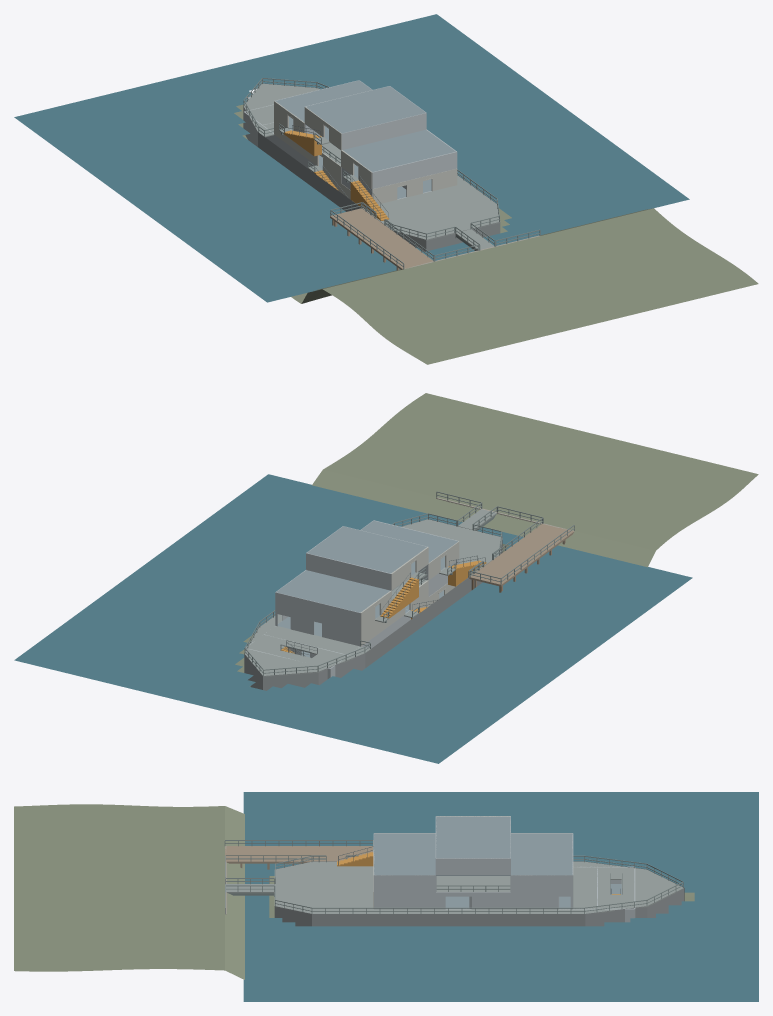
The model's file is vessel.glb.
3 renders of one model, top to bottom at view 1: azimuth 30°, elevation 25°; view 2: azimuth 150°, elevation 25°; view 3: azimuth 270°, elevation 25°, orthographic.
Visible parts, largest first — view 1: WATER PLACEHOLDER / layers and transparency pending, Authored quay terrain, Saint Elara joined aft starboard and fore weather deck regio, Ceiling cap bridge, Pointed retired vessel hull / empty interior, Ceiling cap crew, Saint Elara port work pier region0, Wall crew S, Wall bridge S, Ceiling cap net; view 2: WATER PLACEHOLDER / layers and transparency pending, Authored quay terrain, Saint Elara joined aft starboard and fore weather deck regio, Pointed retired vessel hull / empty interior, Ceiling cap bridge, Ceiling cap net, Saint Elara port work pier region0, Wall bridge N, Wall net N, Ceiling cap crew, Flat route shell Wall processing N; view 3: WATER PLACEHOLDER / layers and transparency pending, Authored quay terrain, Saint Elara joined aft starboard and fore weather deck regio, Pointed retired vessel hull / empty interior, Ceiling cap bridge, Ceiling cap crew, Ceiling cap net, Saint Elara port work pier region0, Flat route shell Wall processing E, Wall bridge E, Saint Elara processing deck head and upper weather deck regi, Wall net E (+5 smaller).
Boxes of the visible parts, x1,y1,x2,y2 form: WATER PLACEHOLDER / layers and transparency pending: (14,14,689,302); Authored quay terrain: (234,104,758,364); Saint Elara joined aft starboard and fore weather deck regio: (244,83,500,240); Ceiling cap bridge: (305,86,425,133); Pointed retired vessel hull / empty interior: (243,83,500,251); Ceiling cap crew: (343,130,455,171); Saint Elara port work pier region0: (330,208,433,269); Wall crew S: (372,151,456,188); Wall bridge S: (341,113,426,149); Ceiling cap net: (275,80,371,122); WATER PLACEHOLDER / layers and transparency pending: (14,474,692,763); Authored quay terrain: (235,393,758,686); Saint Elara joined aft starboard and fore weather deck regio: (244,519,502,676); Pointed retired vessel hull / empty interior: (244,519,502,690); Ceiling cap bridge: (307,526,426,573); Ceiling cap net: (276,570,389,612); Saint Elara port work pier region0: (469,524,574,586); Wall bridge N: (306,553,391,590); Wall net N: (275,592,360,629); Ceiling cap crew: (361,520,458,562); Flat route shell Wall processing N: (322,620,360,646); WATER PLACEHOLDER / layers and transparency pending: (243,792,758,1001); Authored quay terrain: (14,804,694,979); Saint Elara joined aft starboard and fore weather deck regio: (274,861,683,914); Pointed retired vessel hull / empty interior: (274,861,684,926); Ceiling cap bridge: (436,816,510,858); Ceiling cap crew: (374,833,435,875); Ceiling cap net: (511,833,572,875); Saint Elara port work pier region0: (225,846,372,863); Flat route shell Wall processing E: (436,892,572,909); Wall bridge E: (436,858,510,875); Saint Elara processing deck head and upper weather deck regi: (436,876,510,891); Wall net E: (510,875,572,892).
Bounding box in the file's own units: 80 × 14.77 × 120.
